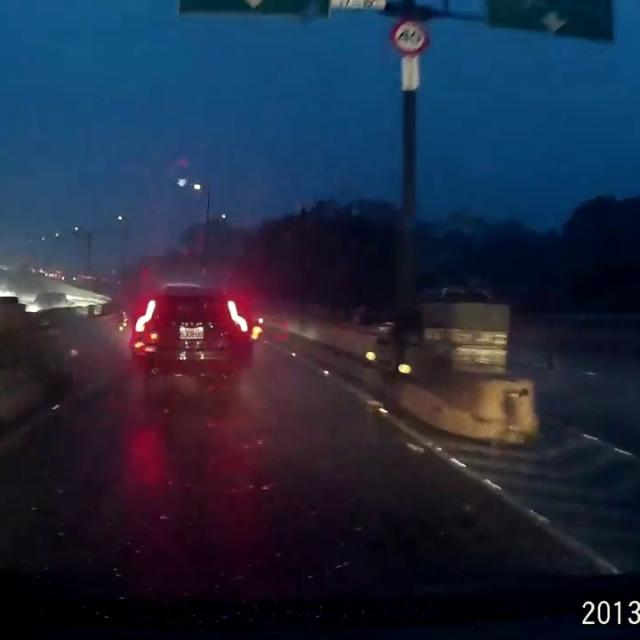Car: (127, 280, 255, 374)
